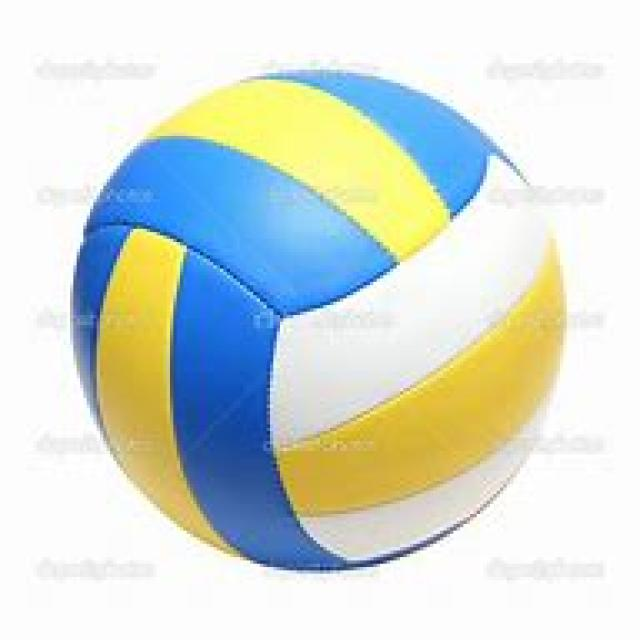Volleyball: (68, 63, 567, 575)
